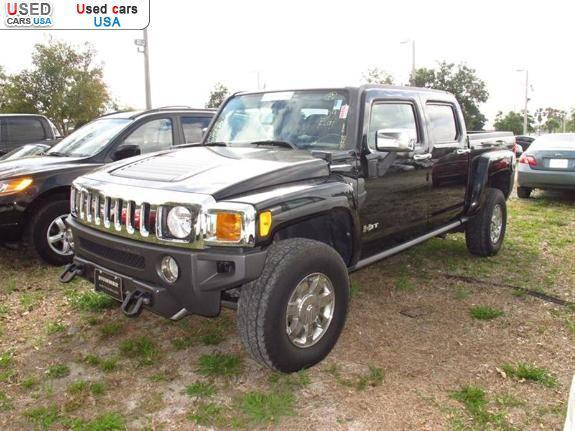Car: (29, 59, 524, 384), (0, 90, 247, 264), (511, 120, 574, 219)
